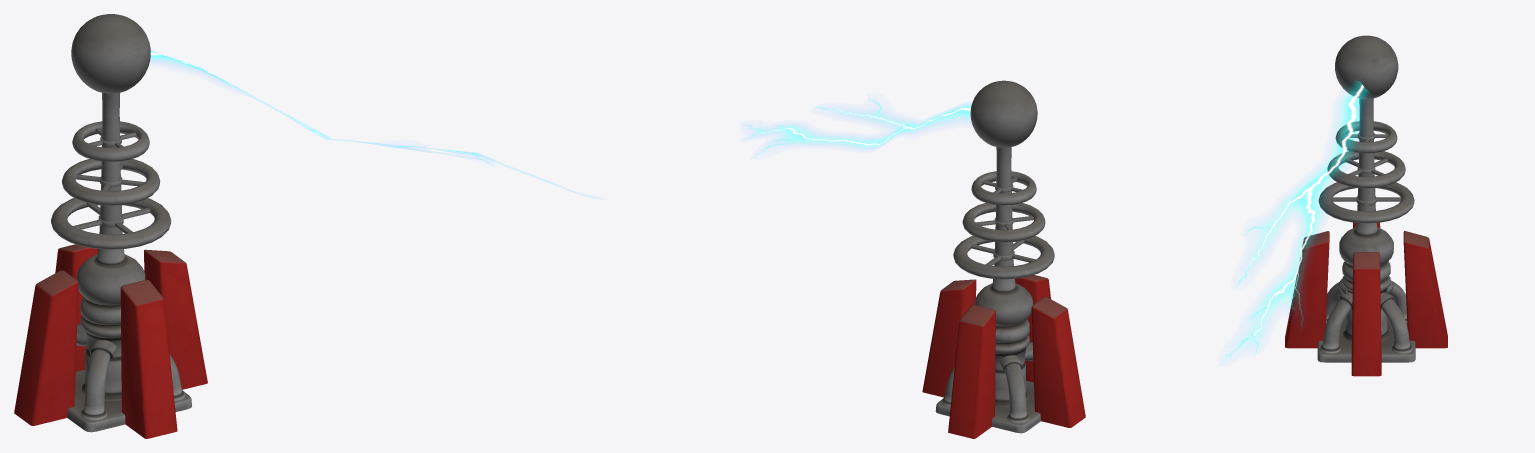
3 renders of one model, left to right at view 1: azimuth 30°, elevation 25°; view 2: azimuth 150°, elevation 25°; view 3: azimuth 270°, elevation 25°, orthographic. The views are drawn at different scales.
Visible parts, largest first — view 1: posts_low_Tesla Coil_0, body_low_Tesla Coil_0, rings_low_Tesla Coil_0, ball_low_Tesla Coil_0, pipes_low_Tesla Coil_0, base_low_Tesla Coil_0, spokes_low_Tesla Coil_0, lightningbolt_low; view 2: posts_low_Tesla Coil_0, body_low_Tesla Coil_0, rings_low_Tesla Coil_0, ball_low_Tesla Coil_0, lightningbolt_low, pipes2_low_Tesla Coil_0, base_low_Tesla Coil_0, spokes_low_Tesla Coil_0; view 3: posts_low_Tesla Coil_0, lightningbolt_low, rings_low_Tesla Coil_0, body_low_Tesla Coil_0, ball_low_Tesla Coil_0, pipes2_low_Tesla Coil_0, pipes_low_Tesla Coil_0, base_low_Tesla Coil_0, spokes_low_Tesla Coil_0.
Part boxes in pixels (x1,y1,x2,y2): posts_low_Tesla Coil_0: (14,244,207,438); body_low_Tesla Coil_0: (76,92,145,401); rings_low_Tesla Coil_0: (51,121,171,249); ball_low_Tesla Coil_0: (71,14,150,93); pipes_low_Tesla Coil_0: (81,339,116,420); base_low_Tesla Coil_0: (67,370,191,432); spokes_low_Tesla Coil_0: (73,128,150,233); lightningbolt_low: (150,51,588,196); posts_low_Tesla Coil_0: (922,275,1085,438); body_low_Tesla Coil_0: (975,147,1032,406); rings_low_Tesla Coil_0: (953,171,1054,279); ball_low_Tesla Coil_0: (970,80,1037,147); lightningbolt_low: (746,100,971,154); pipes2_low_Tesla Coil_0: (999,355,1029,423); base_low_Tesla Coil_0: (935,380,1040,433); spokes_low_Tesla Coil_0: (971,177,1035,265); posts_low_Tesla Coil_0: (1285,222,1447,376); lightningbolt_low: (1223,81,1369,360); rings_low_Tesla Coil_0: (1318,121,1414,223); body_low_Tesla Coil_0: (1339,98,1393,341); ball_low_Tesla Coil_0: (1335,35,1398,98); pipes2_low_Tesla Coil_0: (1320,280,1407,353); pipes_low_Tesla Coil_0: (1326,279,1412,353); base_low_Tesla Coil_0: (1317,318,1415,362); spokes_low_Tesla Coil_0: (1331,134,1401,211).
Size of the model in its own units: 108 by 75.02 by 89.24.
Materials: 2 (2 with a texture image).
